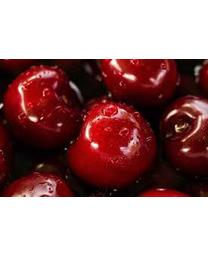cherry: (65, 98, 156, 187), (6, 65, 83, 141), (98, 58, 181, 110), (158, 93, 206, 171)
